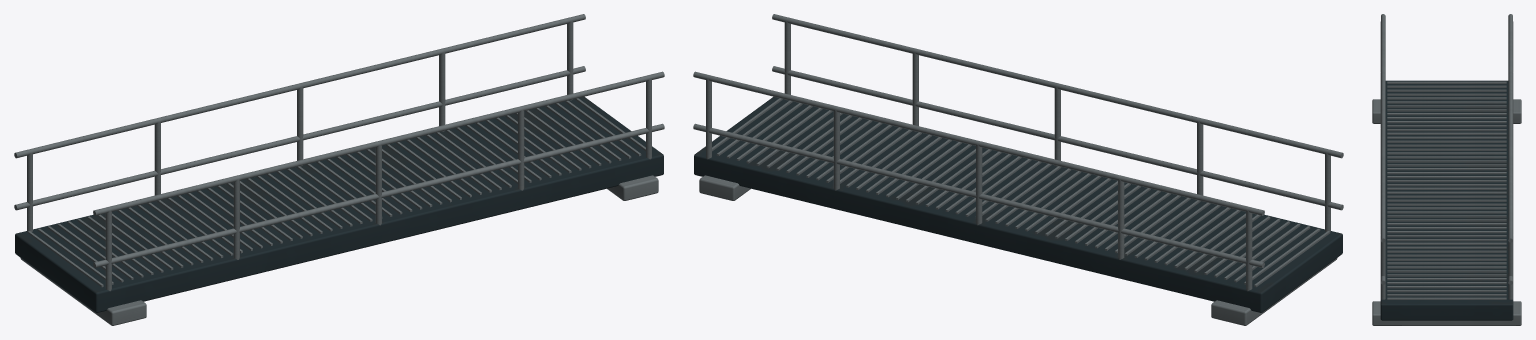
The model's file is NC_MaintenanceBridge_LOD0.fbx.
3 renders of one model, left to right at view 1: azimuth 30°, elevation 25°; view 2: azimuth 150°, elevation 25°; view 3: azimuth 270°, elevation 25°, orthographic. The views are drawn at different scales.
Visible parts, largest first — view 1: NC_MaintenanceBridge_LOD0; view 2: NC_MaintenanceBridge_LOD0; view 3: NC_MaintenanceBridge_LOD0.
Boxes of the visible parts, <box> form: NC_MaintenanceBridge_LOD0: <box>14,14,664,325</box>; NC_MaintenanceBridge_LOD0: <box>693,14,1343,325</box>; NC_MaintenanceBridge_LOD0: <box>1372,14,1521,325</box>.
Size of the model in its own units: 800 by 154 by 225.
